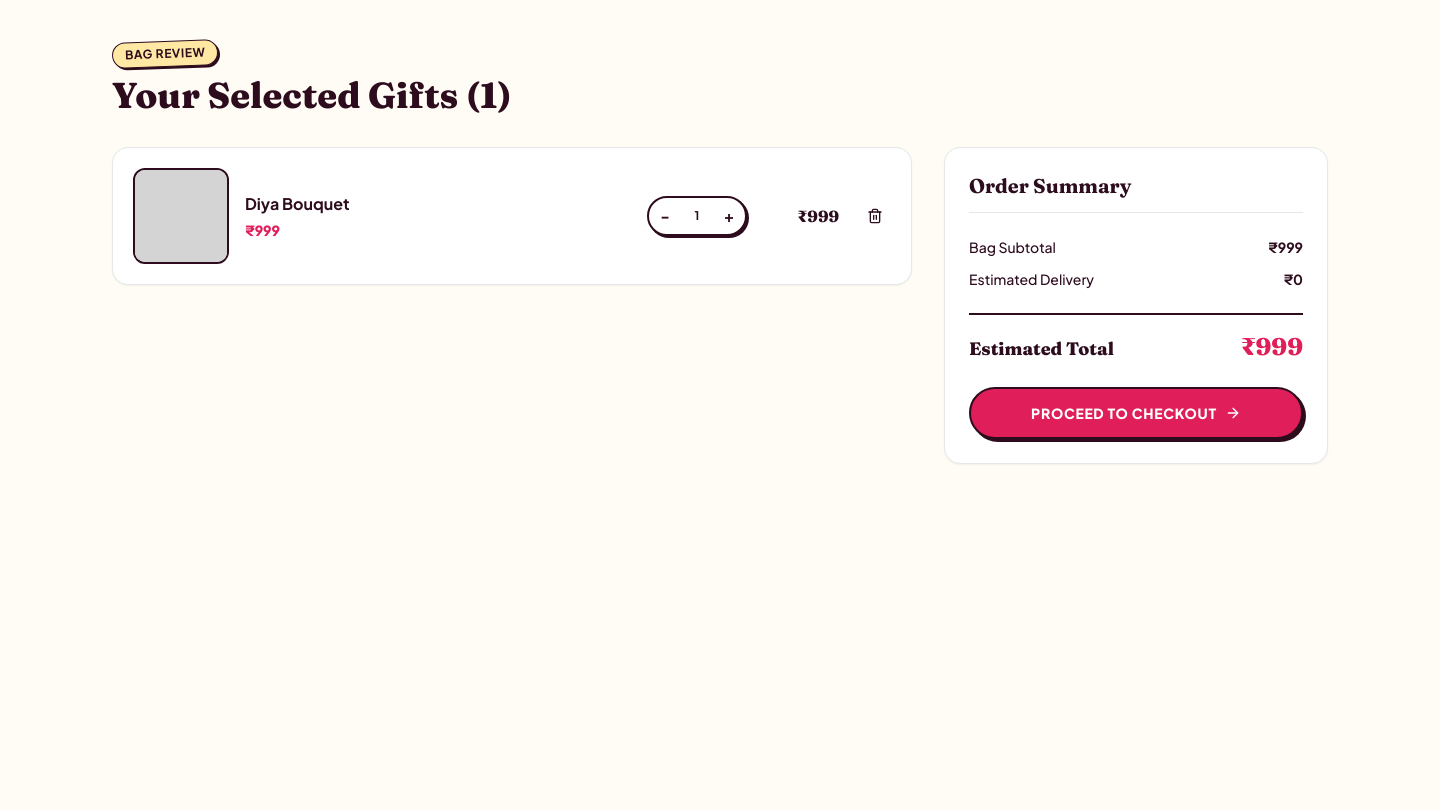
Test case: Add to Bag & Bag Quantity Loader Behavior › shows loaders on Bag +/- buttons and displays "maximum reached..." at stock limit
The width and height of the screenshot is (1440, 810).
Later steps or results of the test are not shown.
Expected: the text "maximum reached..." is not shown
Step 1. Click the button named "increase quantity" → click(729, 216), box [713,198,745,234]
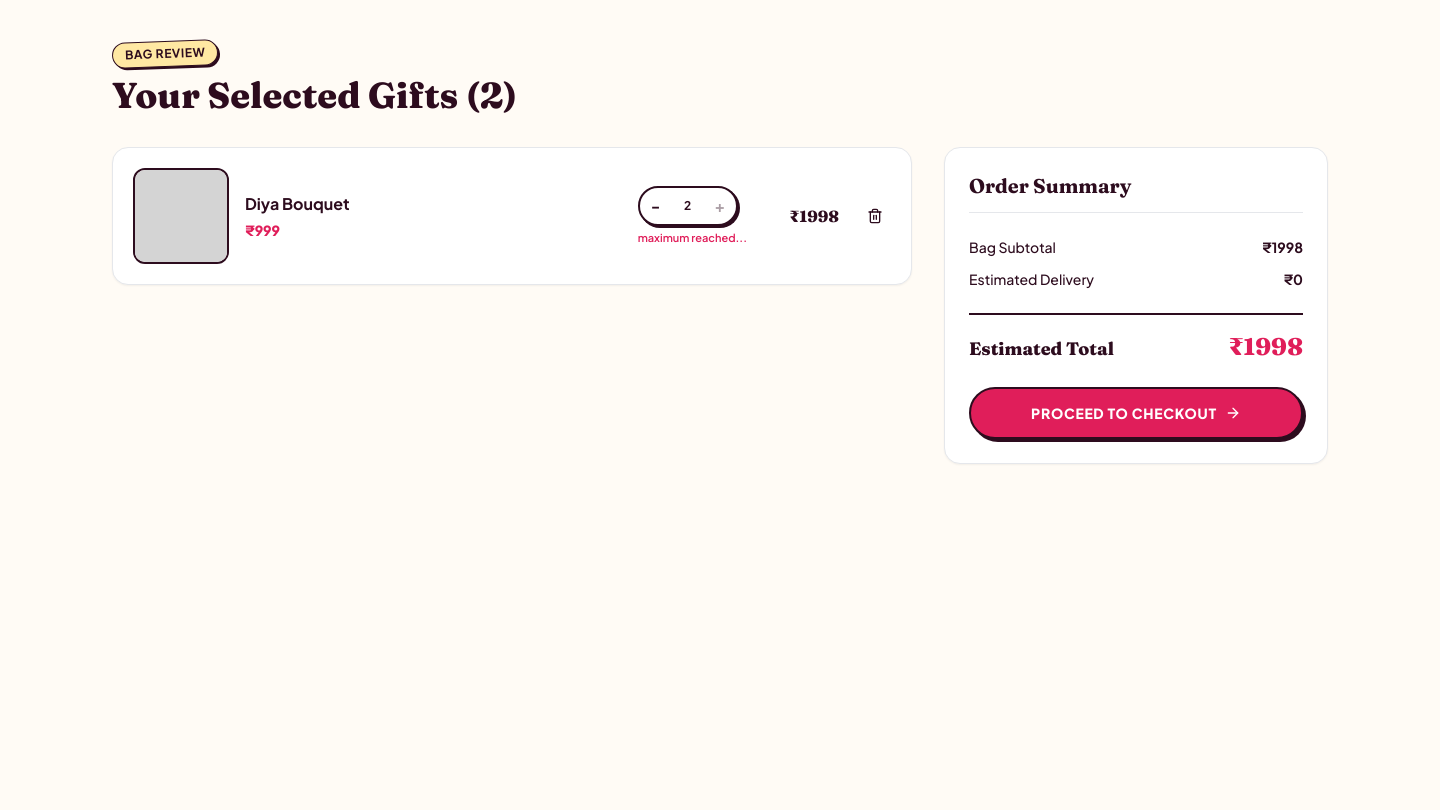
Now the button named "increase quantity" is disabled, box [704,188,736,224]
Now the text "maximum reached..." is shown, box [638,230,747,246]
Step 2. Click the button named "decrease quantity" → click(656, 206), box [640,188,672,224]
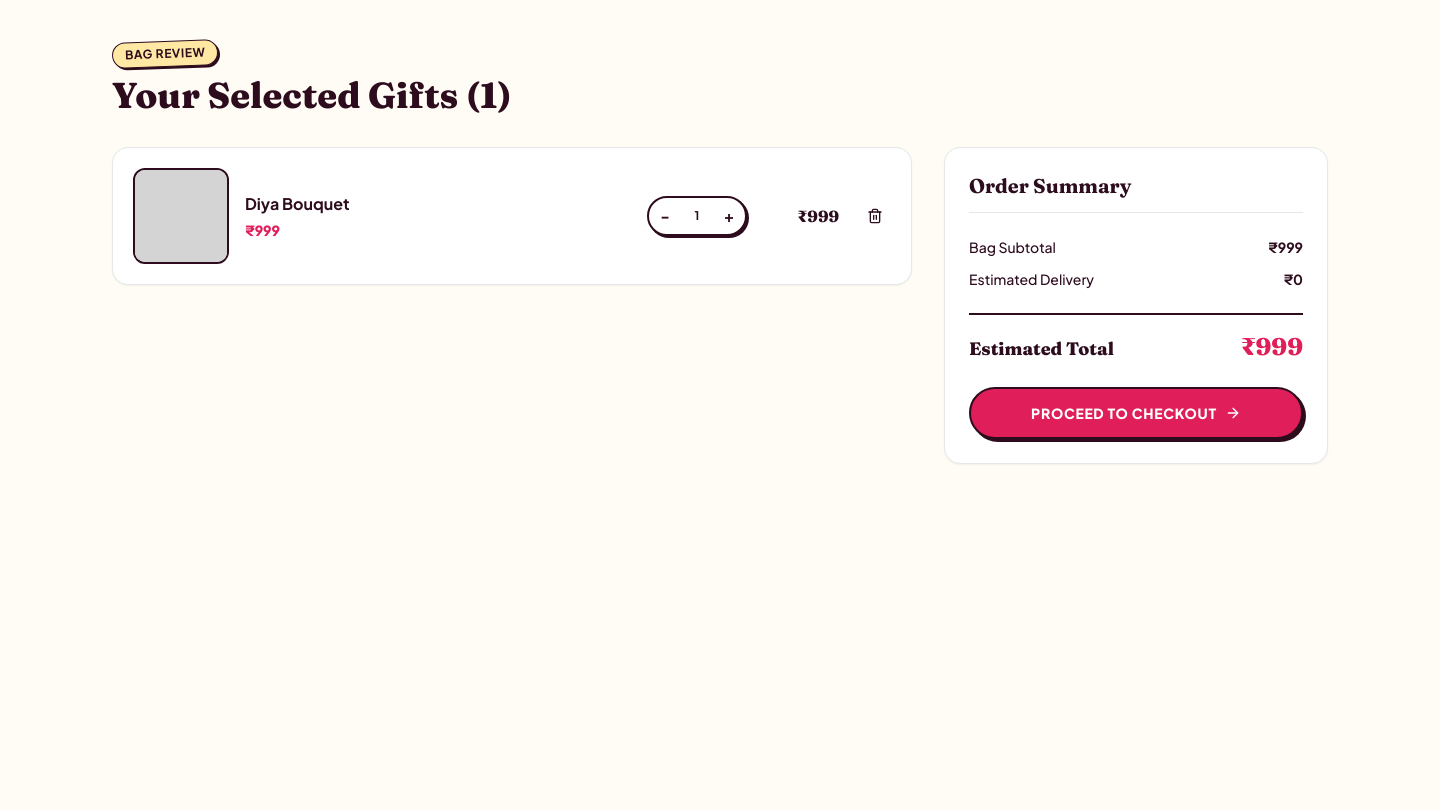
Now the button named "increase quantity" is enabled, box [713,198,745,234]
Now the text "maximum reached..." is gone
Step 3. Click the button named "remove item" → click(875, 216), box [859,200,891,232]
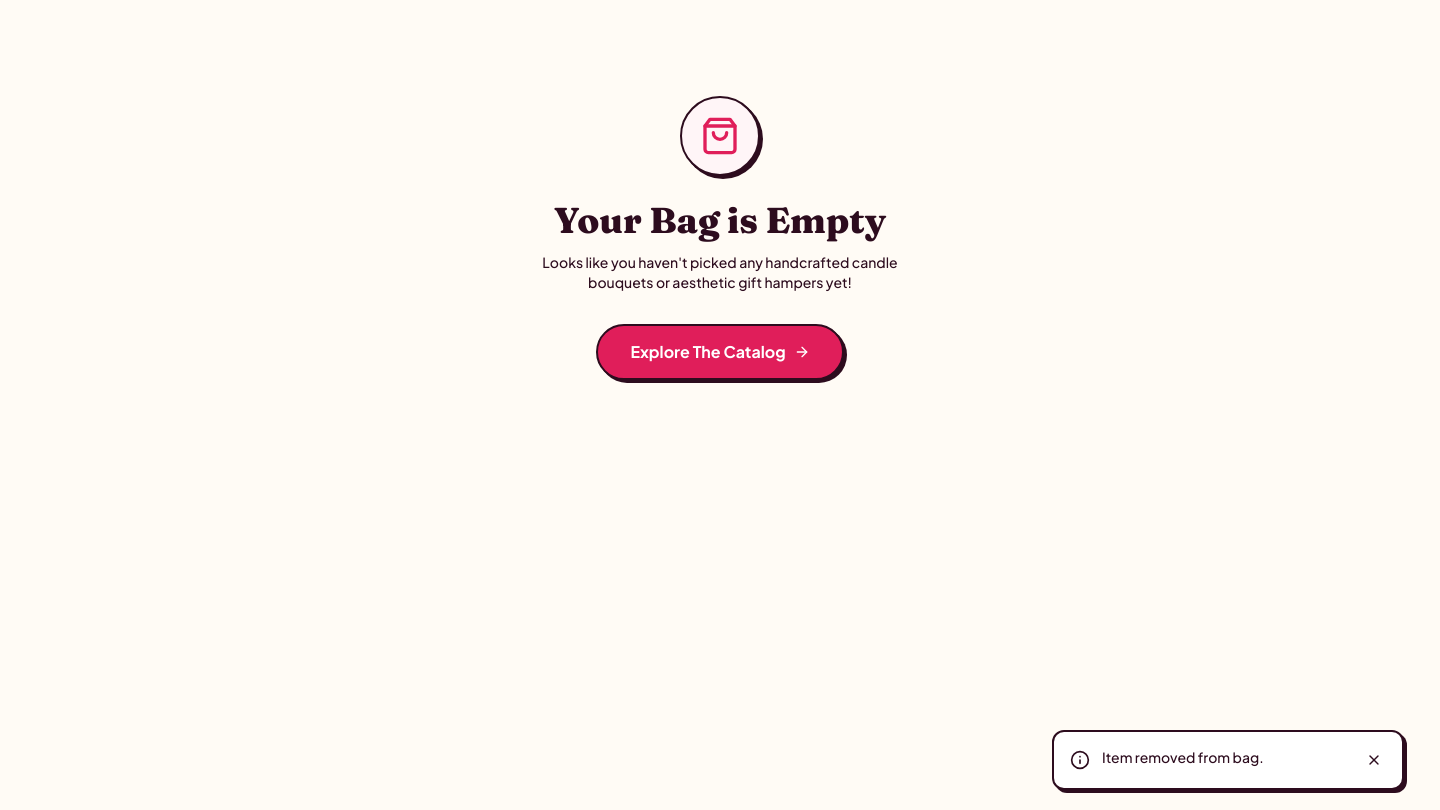
Now the heading "Your Bag is Empty" is shown, box [554,198,886,242]
